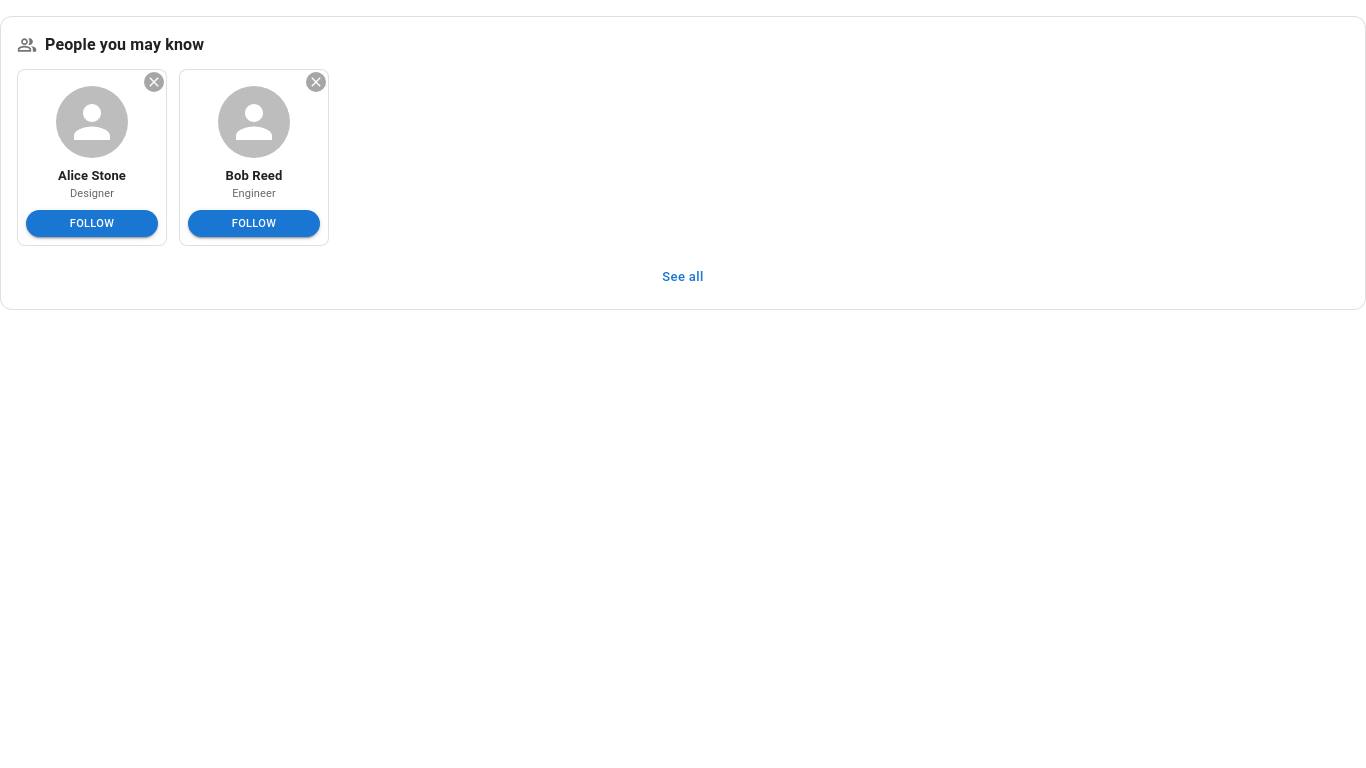
MobileSuggestions › "See all" opens a modal listing the suggestions
Click the button "See all".
click(683, 278)  # box [17,262,1349,293]
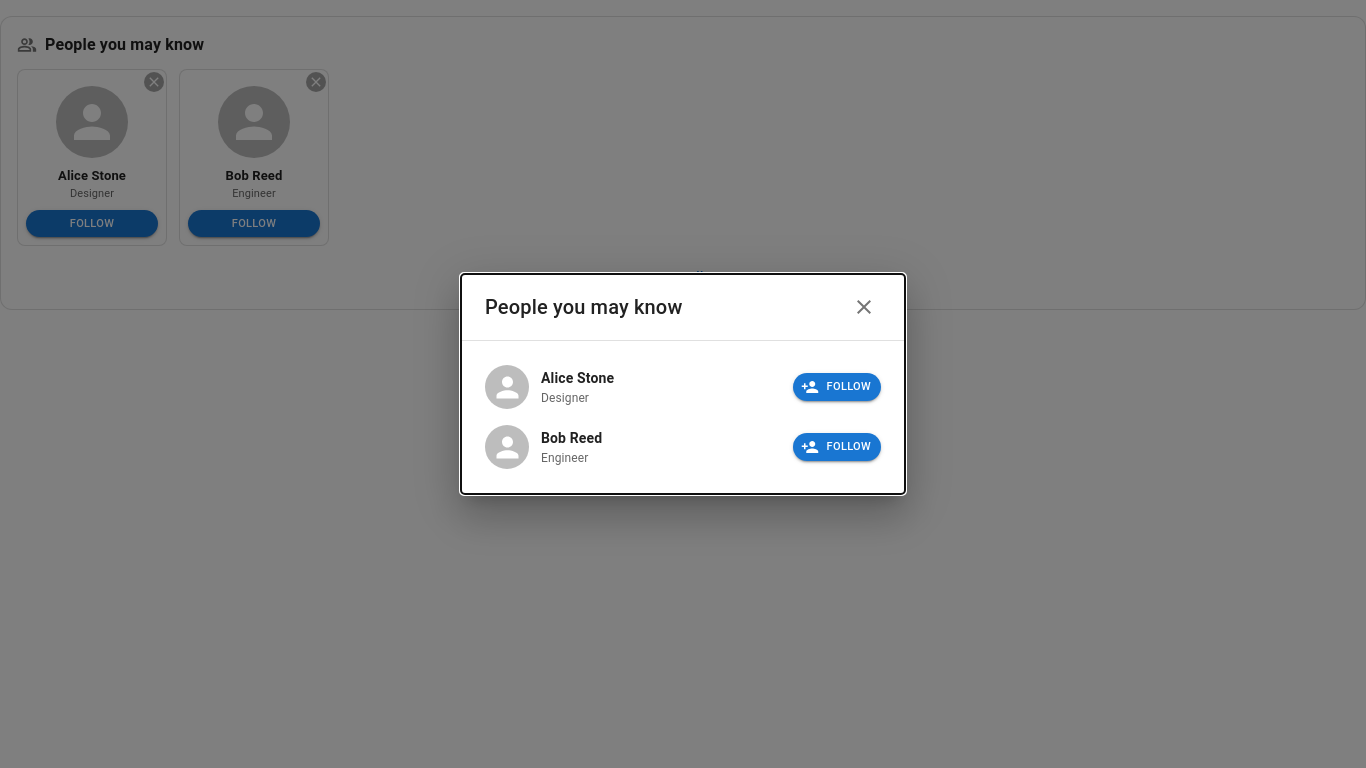
Result: the text "Alice Stone" is shown at [541,370,614,386]
Result: the text "Bob Reed" is shown at [541,430,602,446]
